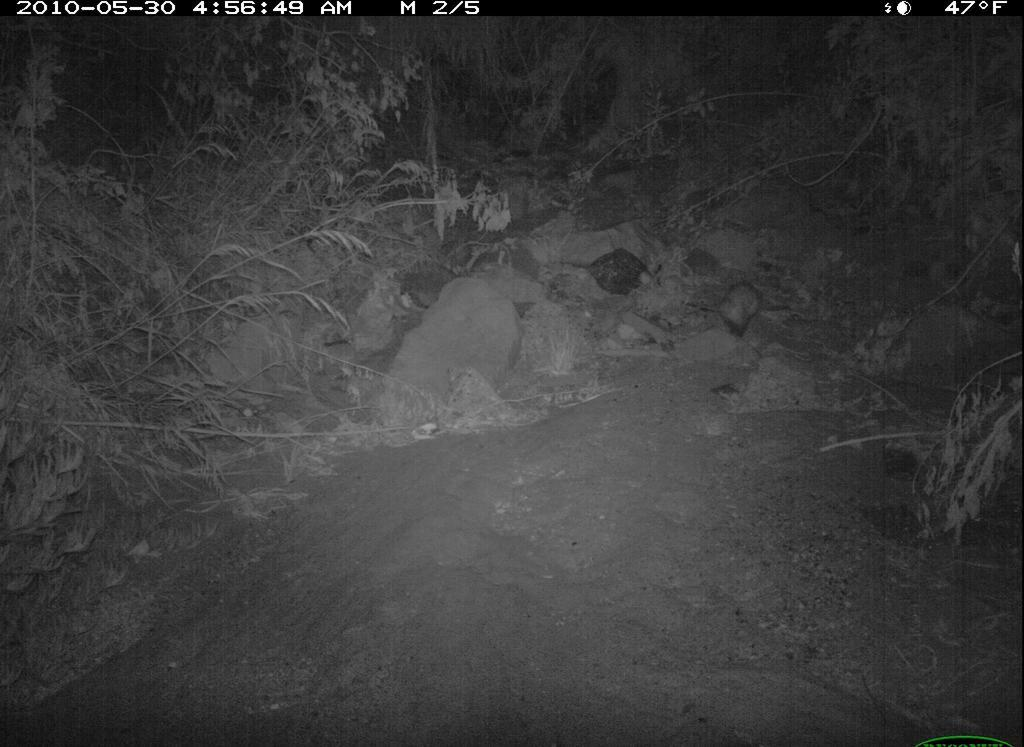opossum: (689, 278, 767, 342)
